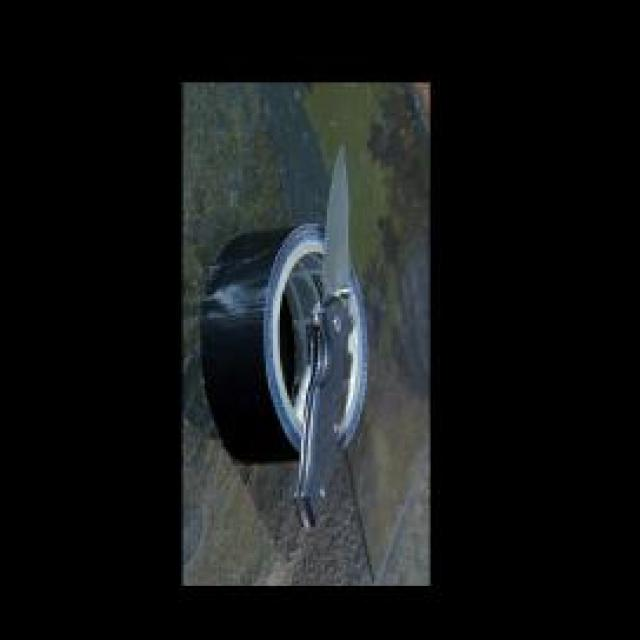knife: (292, 130, 362, 530)
